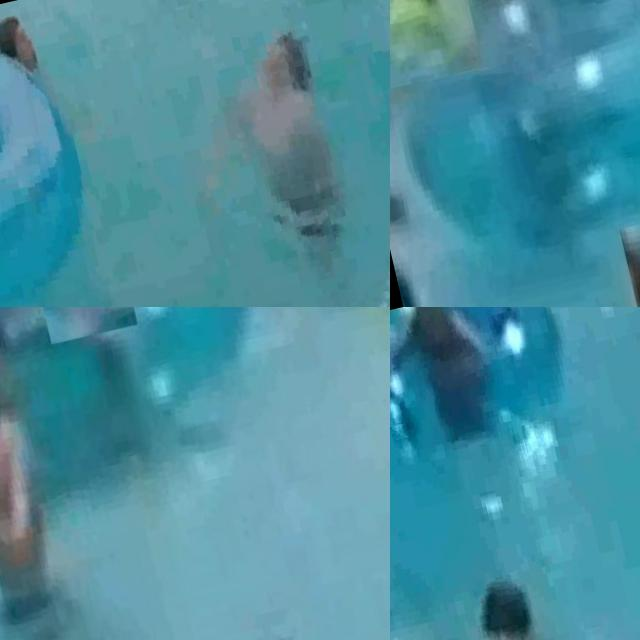drowning: (183, 0, 376, 259), (390, 524, 592, 640), (214, 593, 346, 640)
swimming: (0, 320, 83, 640), (390, 0, 484, 91), (31, 307, 139, 345)
